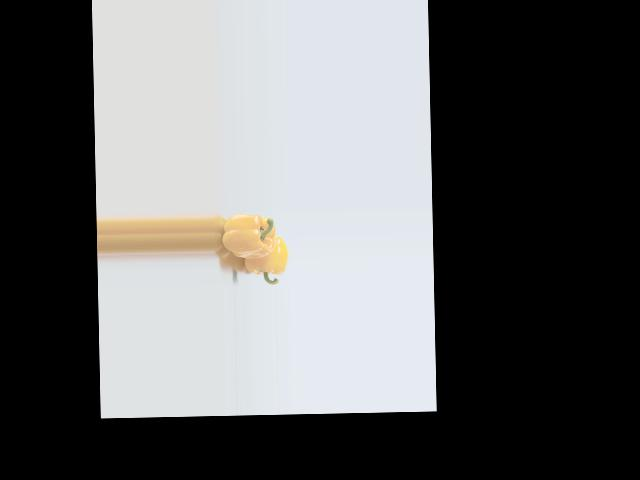bell_pepper: (236, 234, 289, 284)
